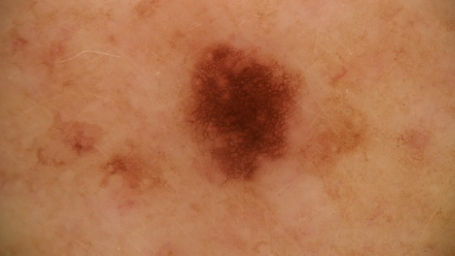melanoma: (186, 44, 299, 175)
